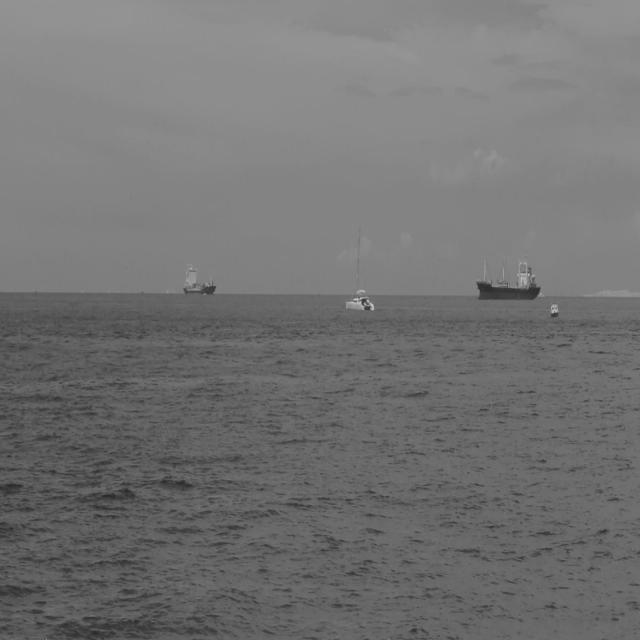boat: (344, 224, 376, 313)
ship: (475, 251, 541, 302), (182, 258, 217, 297), (548, 298, 560, 320)
